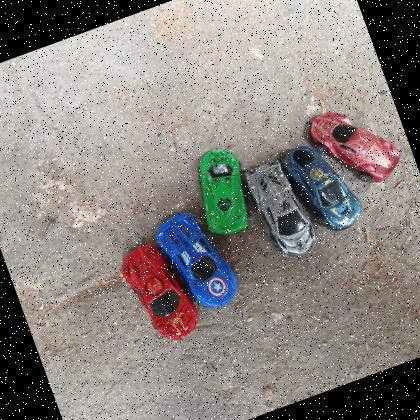Car: (150, 200, 246, 320), (306, 91, 410, 197), (114, 234, 206, 351), (277, 132, 368, 243), (241, 153, 324, 268), (183, 142, 263, 241)
